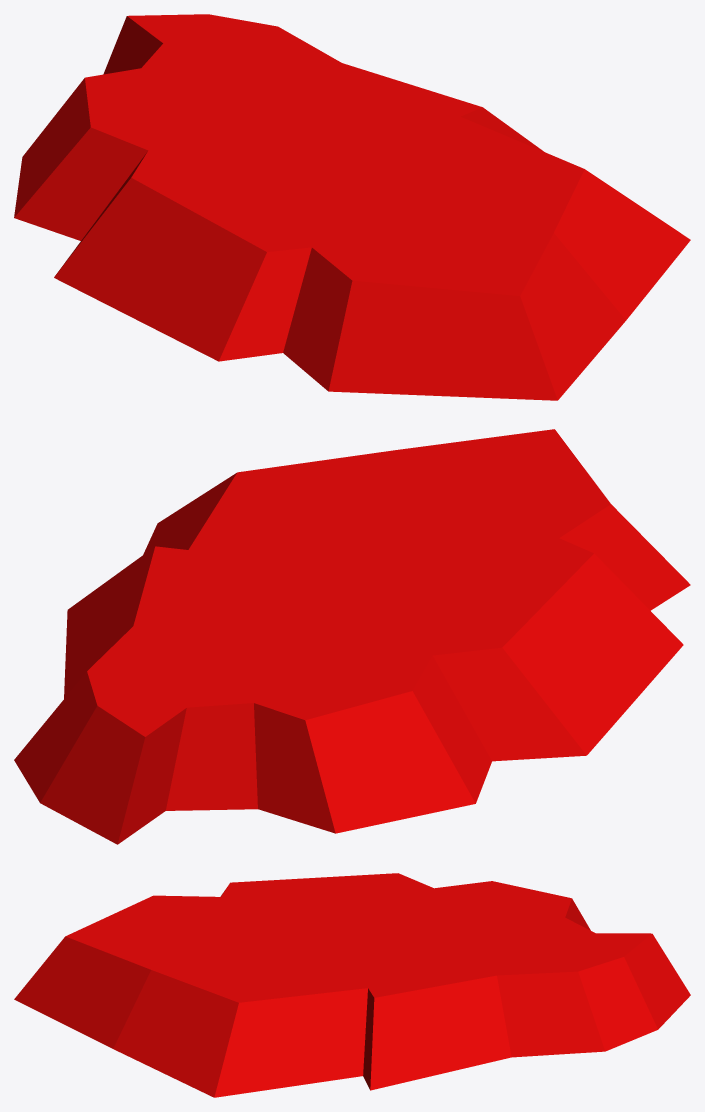
File: magic_red.fbx
3 renders of one model, top to bottom at view 1: azimuth 30°, elevation 25°; view 2: azimuth 150°, elevation 25°; view 3: azimuth 270°, elevation 25°, orthographic. The views are drawn at different scales.
Parts seen in each view (by area): view 1: 실린더; view 2: 실린더; view 3: 실린더.
Boxes of the visible parts, box(x1,y1,x2,y2) form: 실린더: box(14, 14, 690, 400); 실린더: box(14, 429, 690, 844); 실린더: box(14, 873, 690, 1097).
Size of the model in its own units: 154 by 22.98 by 229.
